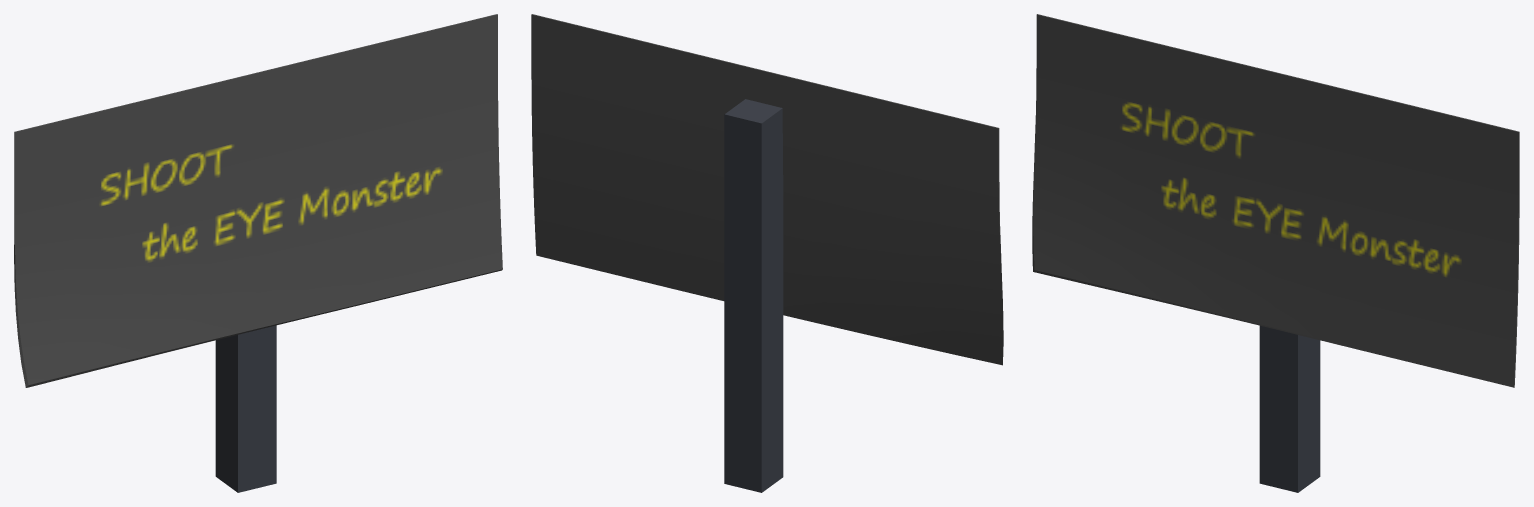
File: Note2.fbx
3 views of the same model, side by side, from view 1: azimuth 30°, elevation 25°; view 2: azimuth 150°, elevation 25°; view 3: azimuth 330°, elevation 25° (orthographic). The views are drawn at different scales.
Parts seen in each view (by area): view 1: Note, Stick; view 2: Note, Stick; view 3: Note, Stick.
Part boxes in pixels (x1,y1,x2,y2): Note: (14, 14, 502, 387); Stick: (215, 325, 276, 492); Note: (531, 14, 1003, 365); Stick: (724, 99, 783, 492); Note: (1032, 14, 1519, 387); Stick: (1259, 325, 1320, 492).
Bounding box in the file's own units: 251 × 206 × 27.15.
Materials: 2 (2 with a texture image).
